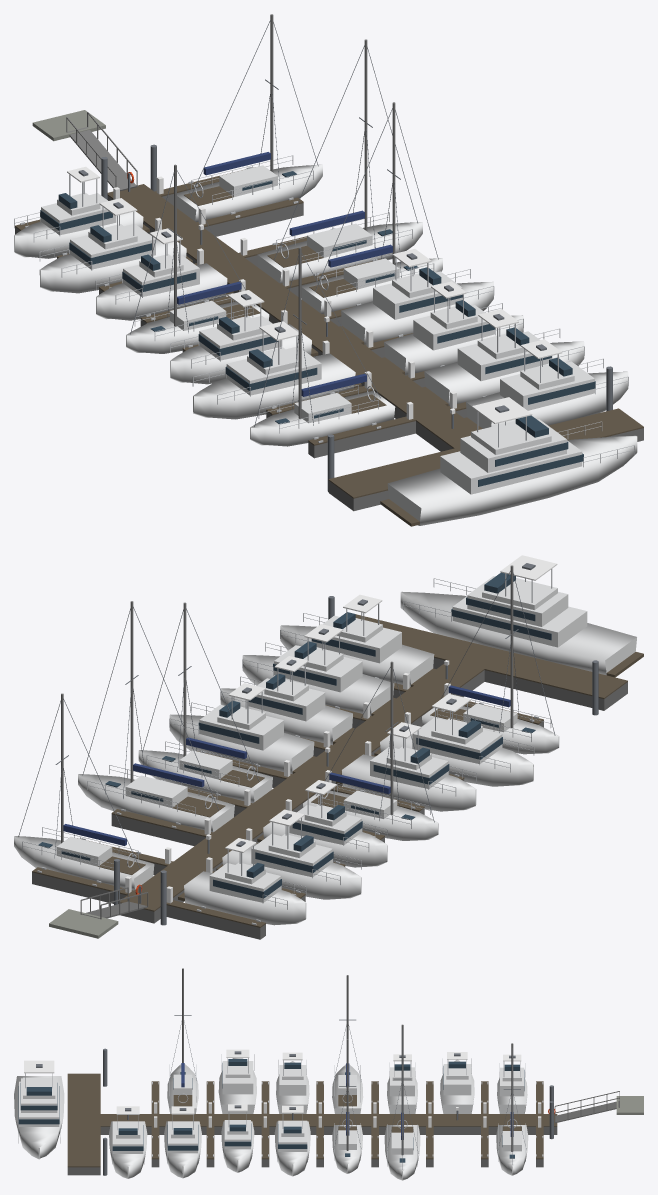
Rendered from port_crane_close.fbx.
3 views of the same model, one above another, from view 1: azimuth 30°, elevation 25°; view 2: azimuth 150°, elevation 25°; view 3: azimuth 270°, elevation 25° (orthographic). The views are drawn at different scales.
Visible parts, largest first — view 1: a1095_0_port_crane_close; view 2: a1095_0_port_crane_close; view 3: a1095_0_port_crane_close.
Part boxes in pixels (x1,y1,x2,y2): a1095_0_port_crane_close: [14, 14, 643, 526]; a1095_0_port_crane_close: [14, 555, 643, 939]; a1095_0_port_crane_close: [14, 968, 643, 1180].
Size of the model in its own units: 24.45 by 14.65 by 57.4.
